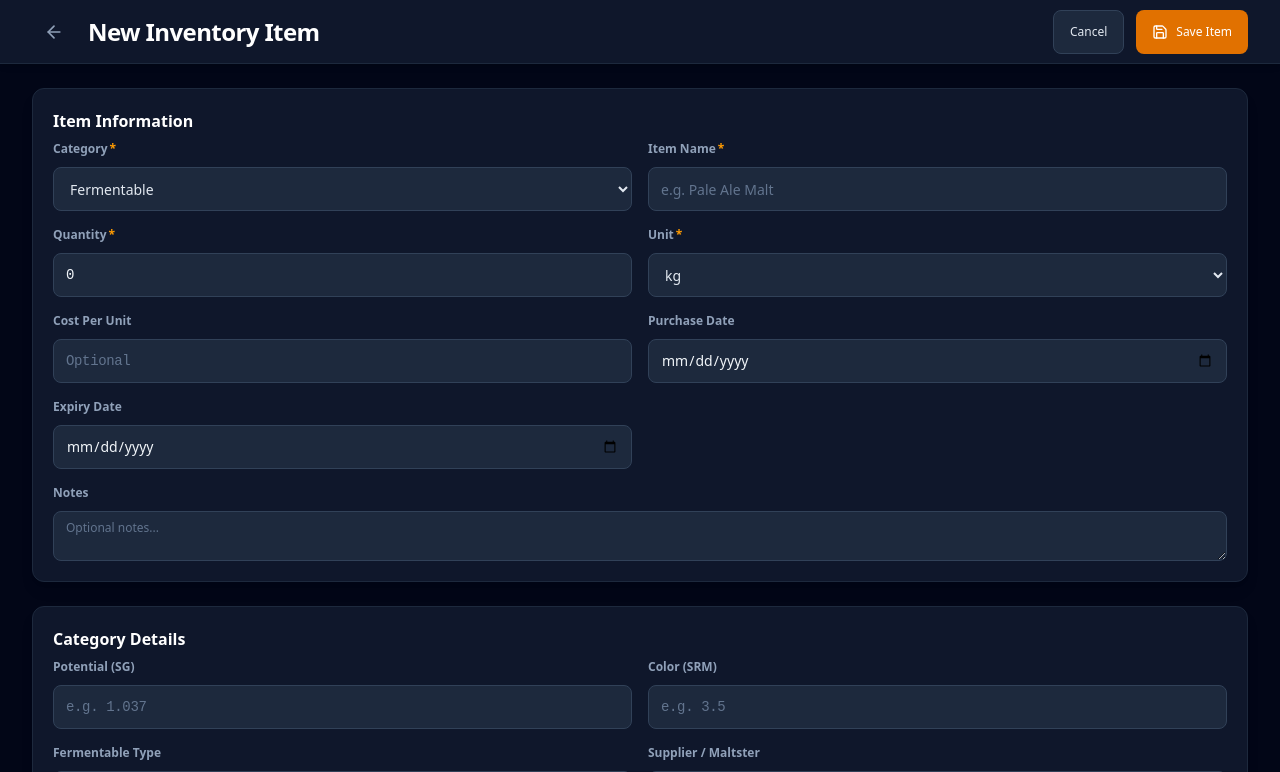
Test: AC-36: duplicate error surfaces without data loss › a 409 INVENTORY_DUPLICATE renders the server message inline and retains every entered value
The width and height of the screenshot is (1280, 772).
In the field with test id "inventory-form-name": (938, 189) [648,167,1227,211], type "Pale Ale Malt"
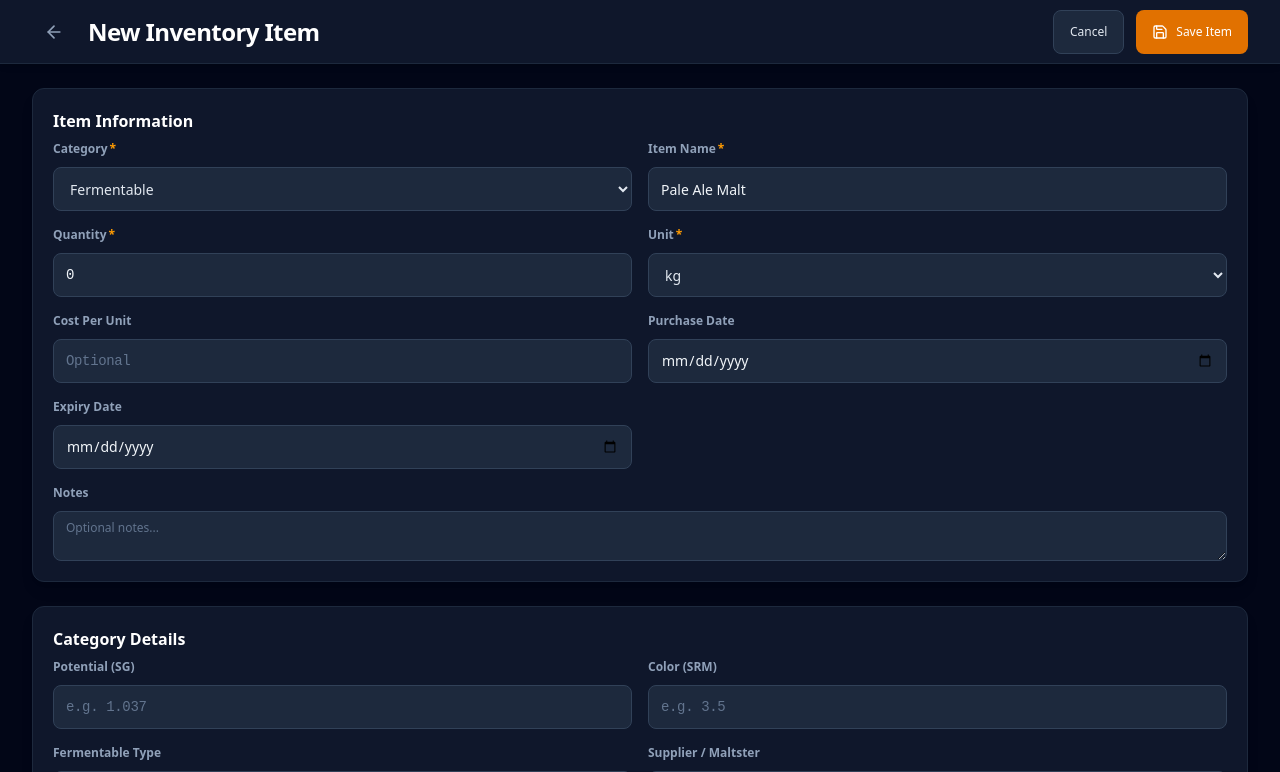
Replace the text in the field with test id "inventory-form-quantity" with "4": (342, 275) [53,253,632,297]
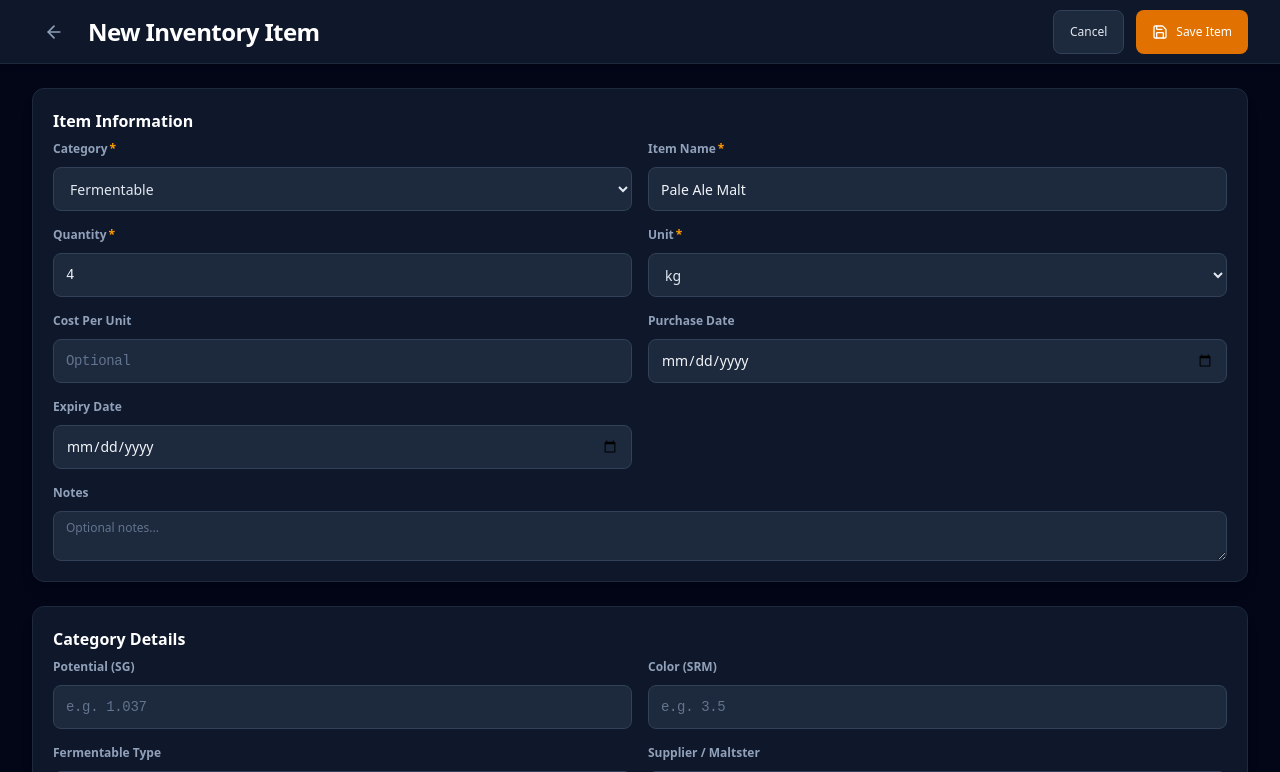
In the field with test id "inventory-form-cost-per-unit": (342, 361) [53,339,632,383], type "3.2"
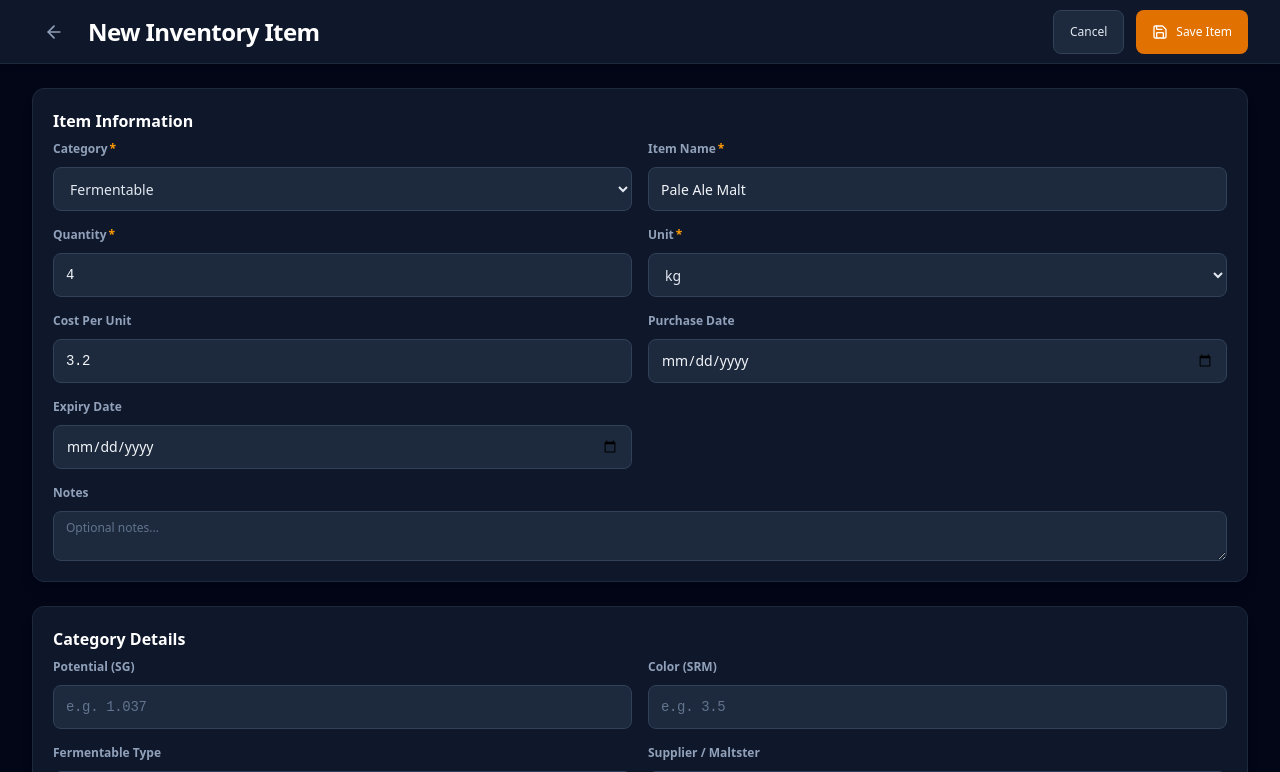
In the text box with test id "inventory-form-notes": (640, 536) [53,511,1227,561], type "my notes"
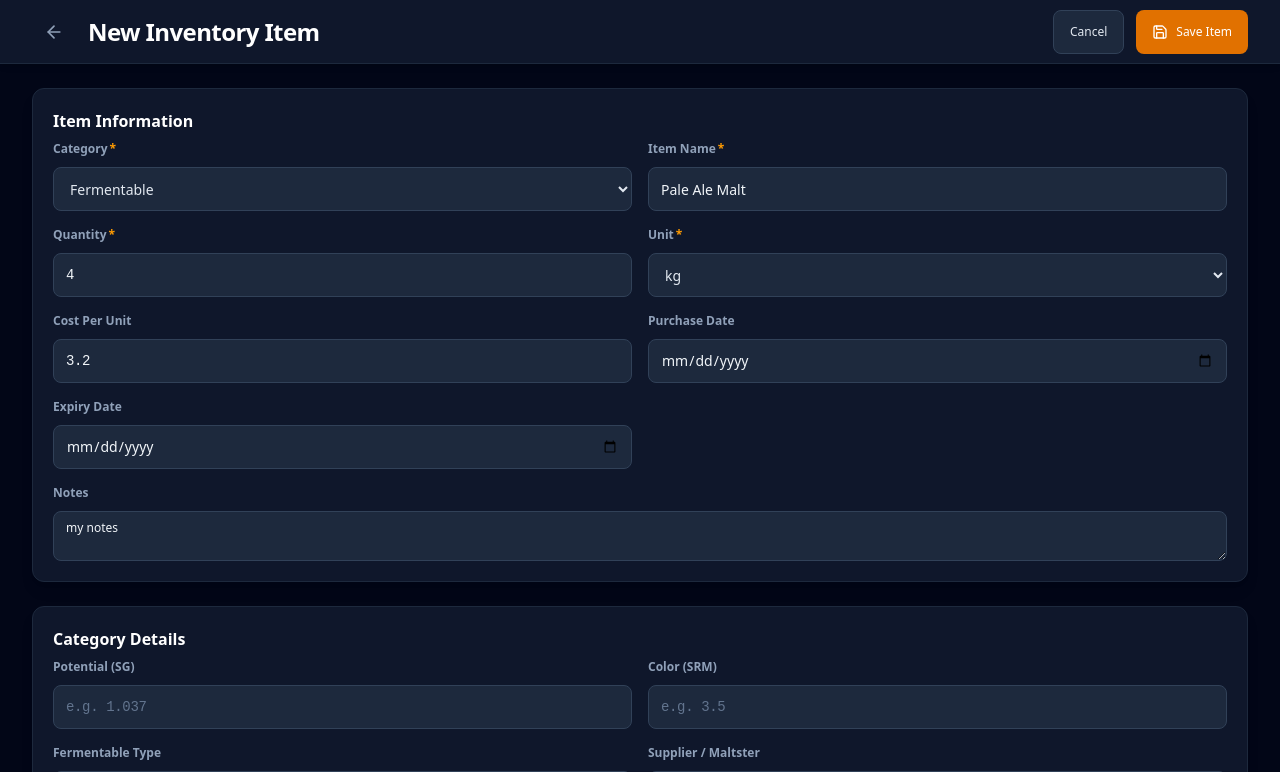
Click the button "Save Item": (1192, 32) [1136,10,1248,54]
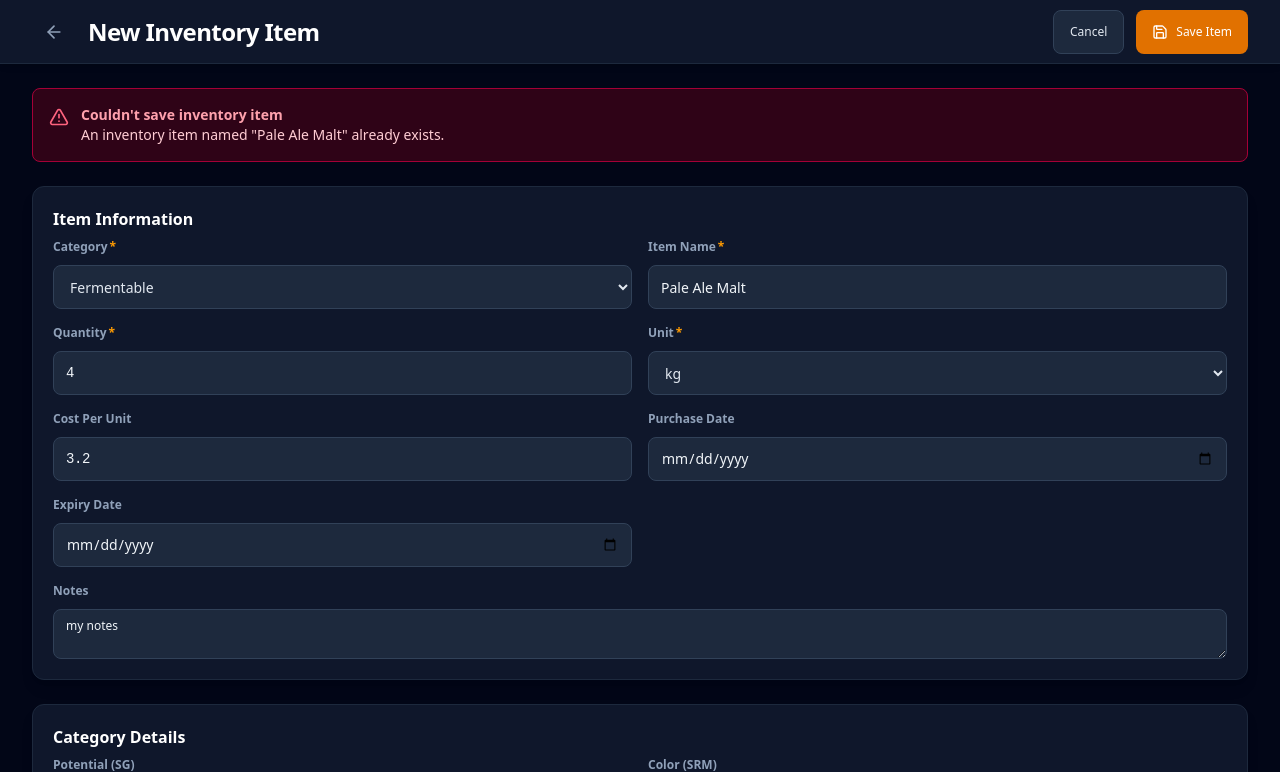
Result: the text "An inventory item named \"Pale Ale Malt\" already exists." is shown at [81,125,444,145]
